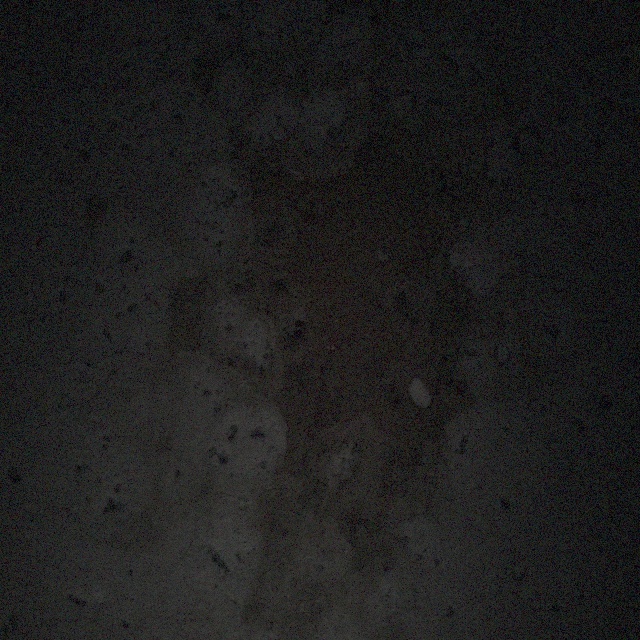pothole: (209, 125, 480, 586)
